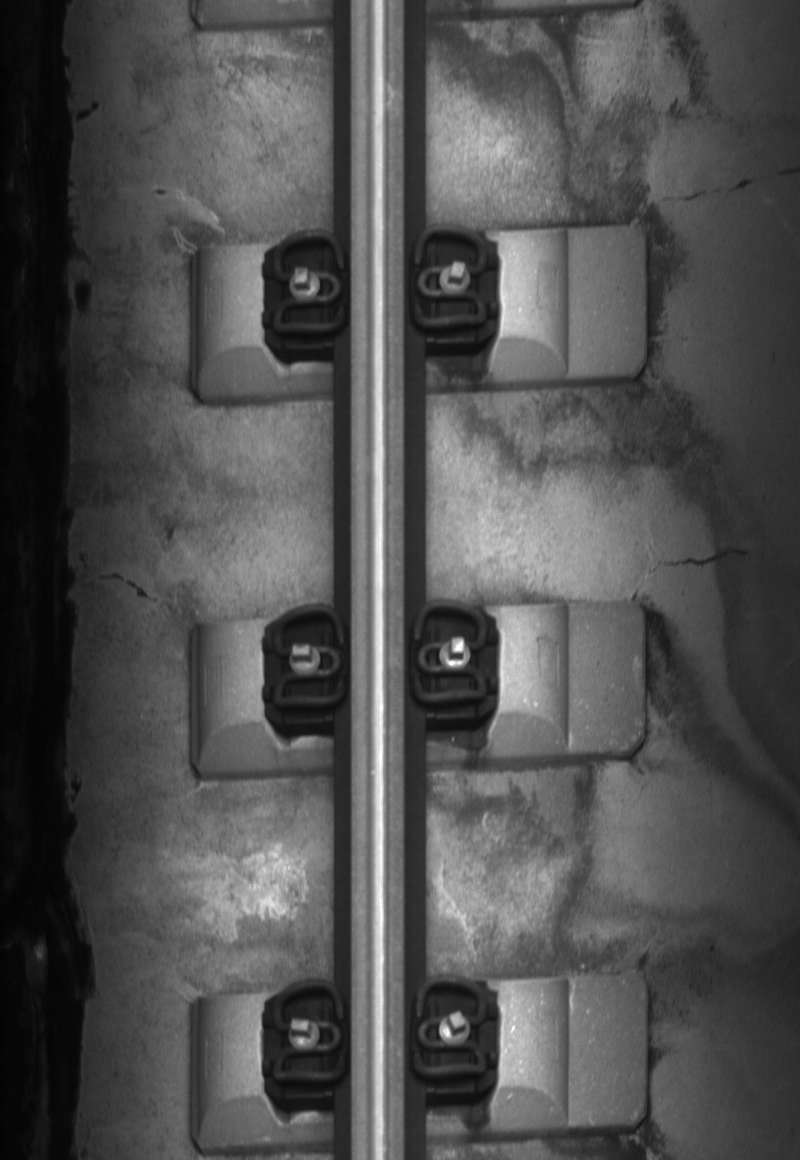l_faster: (266, 974, 350, 1091), (266, 226, 350, 338), (266, 602, 351, 712)
r_faster: (406, 595, 493, 712), (407, 217, 492, 336), (408, 970, 492, 1086)
